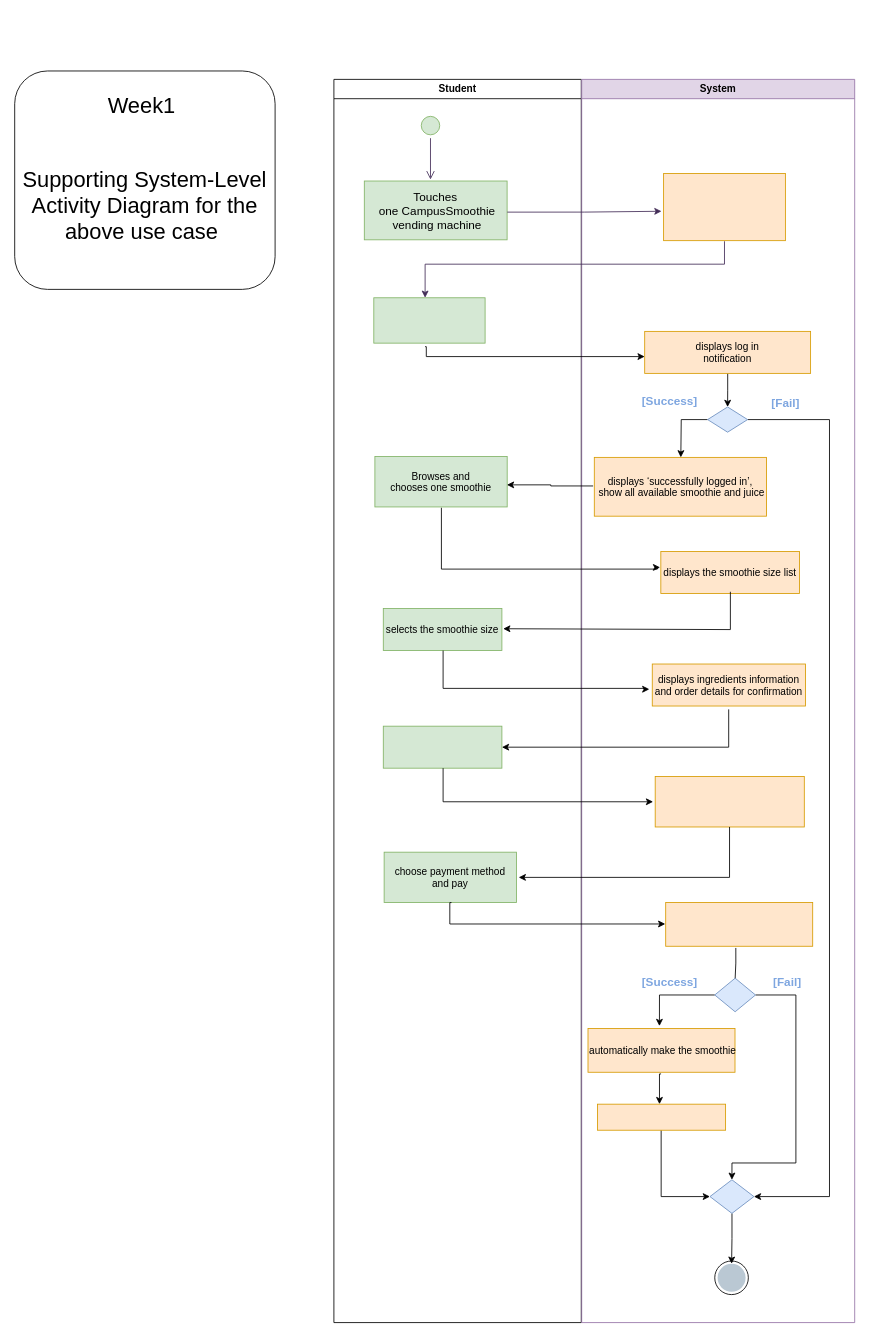
The diagram is 869 pixels wide and 1337 high, and some of its shapes have lost their labels. The shapes that lost their labels are listed below. From the top down, each one's centre as x and y in pixels, then its label:
point 724,207: displays ‘Sign-in’ icon on machine surface
point 429,320: Student wipes school card on the machine
point 442,746: confirms the order
point 729,801: displays payment methods. (Credit card, Apple pay, cash)
point 739,924: displays Transaction Information
point 661,1116: prints the receipt
